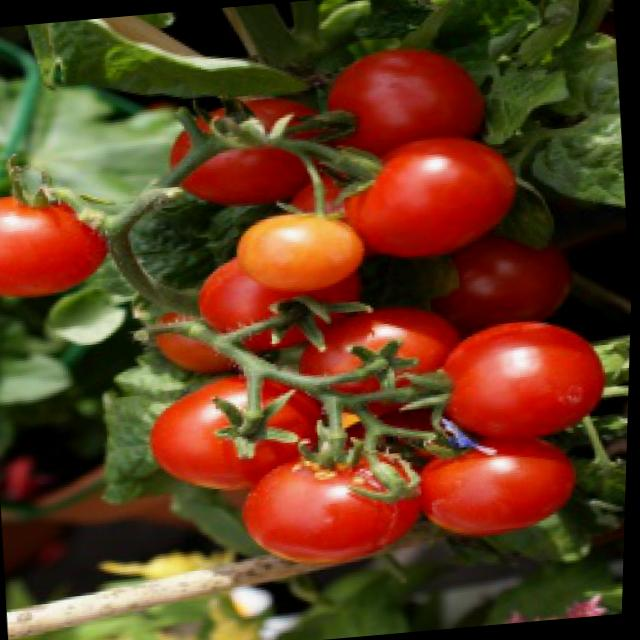tomato: (339, 130, 527, 270), (151, 369, 334, 502), (239, 451, 433, 574), (438, 316, 616, 446), (419, 435, 584, 541), (0, 188, 115, 303)
